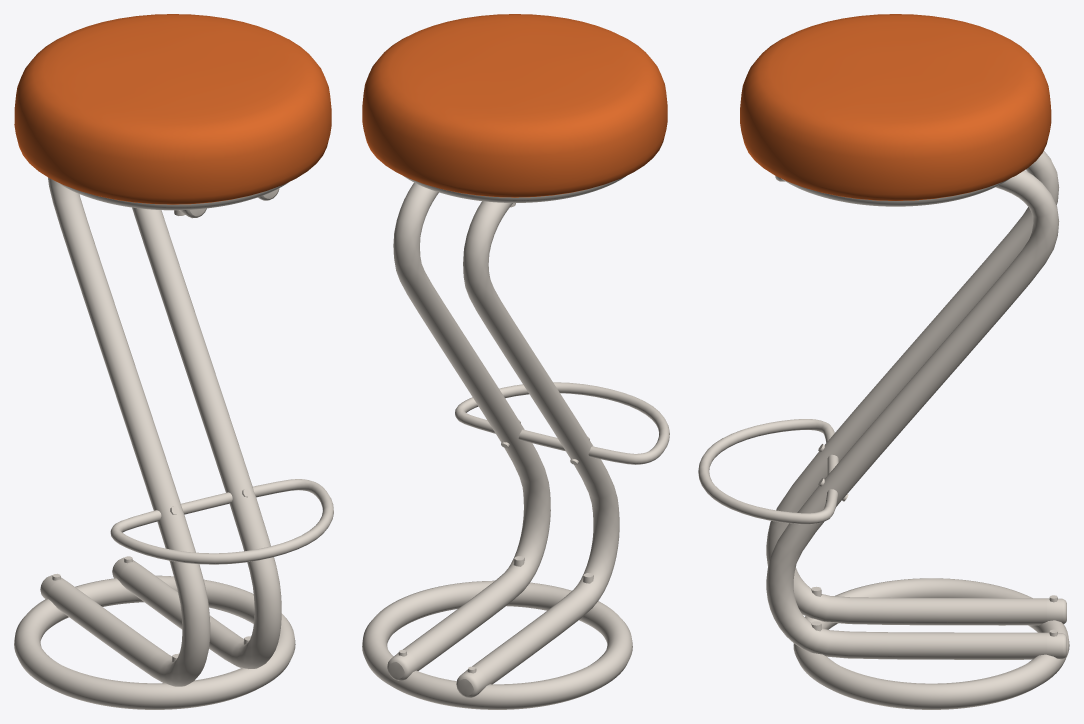
The model's file is BarChair.FBX.
The picture shows the model from 3 angles, left to right: view 1: azimuth 30°, elevation 25°; view 2: azimuth 150°, elevation 25°; view 3: azimuth 270°, elevation 25°; orthographic projection. The views are drawn at different scales.
Visible parts, largest first — view 1: BarChair; view 2: BarChair; view 3: BarChair.
Boxes of the visible parts, x1,y1,x2,y2 form: BarChair: (14, 14, 333, 709); BarChair: (362, 14, 669, 709); BarChair: (698, 14, 1069, 709).
Bounding box in the file's own units: 25.32 × 53.02 × 30.2.
